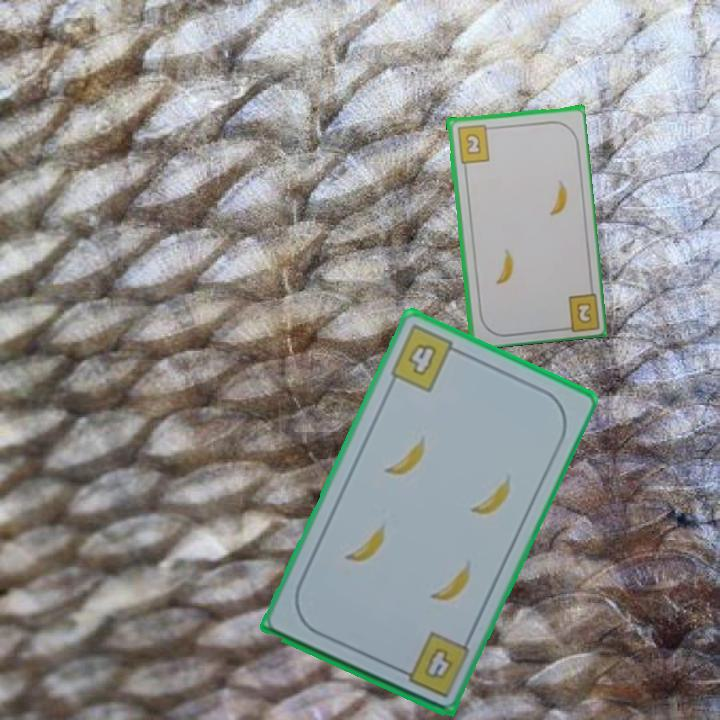2b: (557, 288, 600, 332), (453, 121, 495, 165)
4b: (386, 321, 465, 395), (393, 628, 469, 700)
